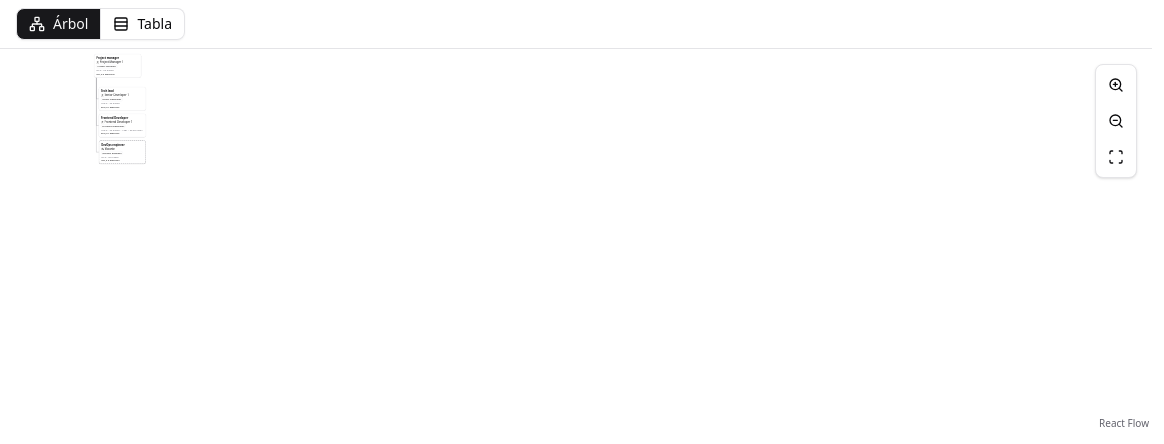
Test: TeamViews › writes the chosen view in the URL, keeping the other parameters and the focus
Click the radio button labelled "Tabla" at (143, 24), box [101, 8, 185, 40]
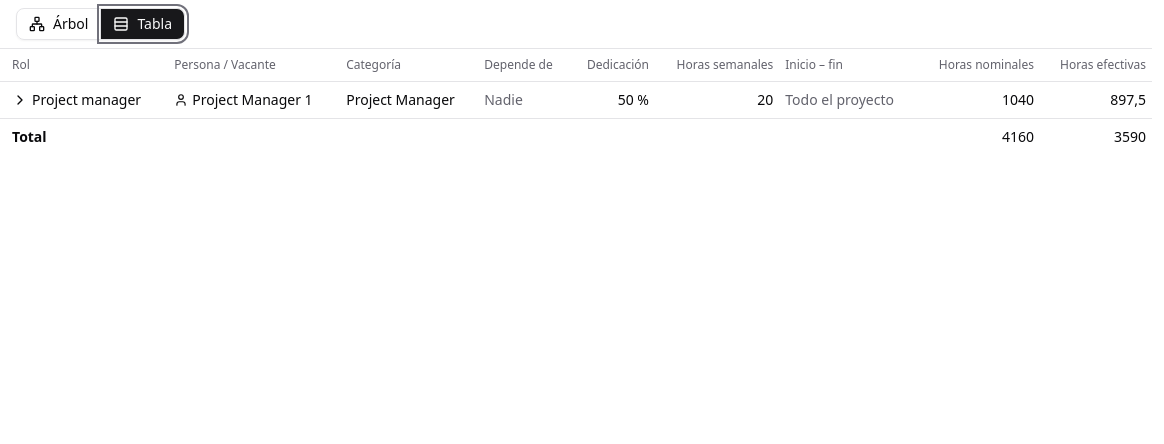
Expected: the radio button labelled "Tabla" is checked, [101, 8, 185, 40]
Expected: the table named "Tabla del equipo" is shown, [0, 49, 1152, 155]
